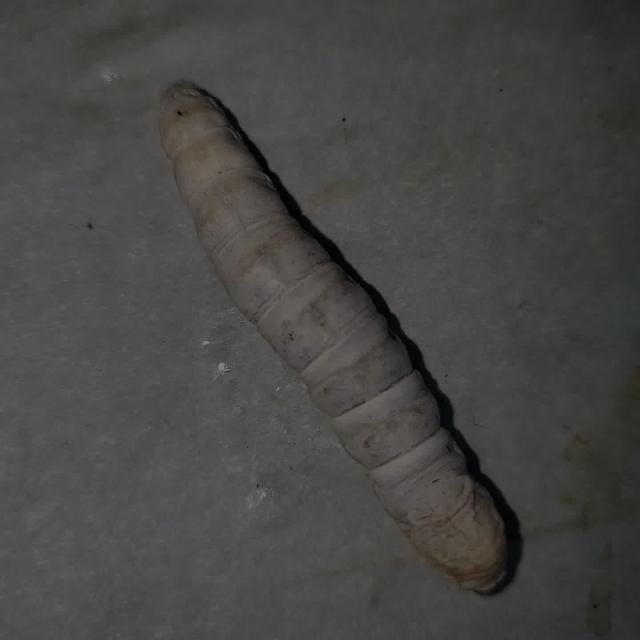Grasserie: (125, 57, 538, 620)
